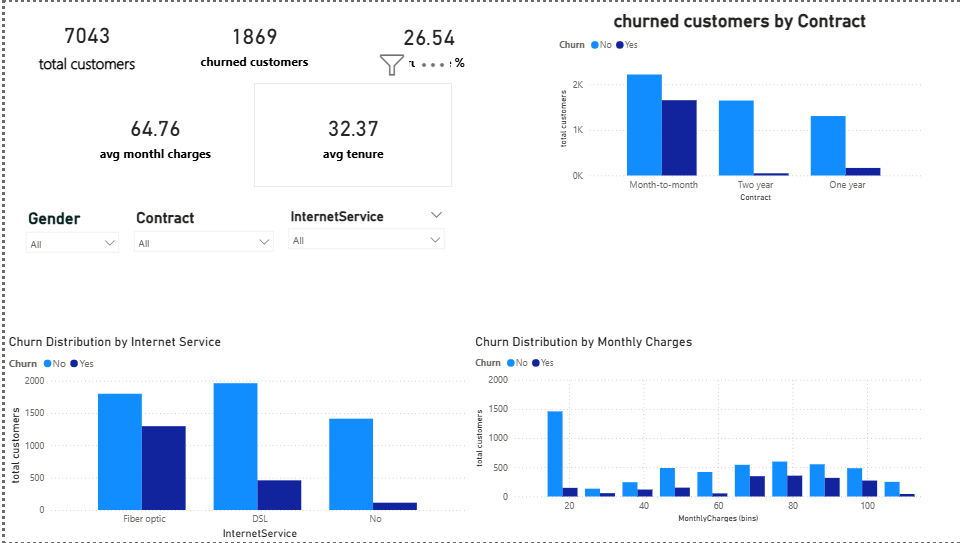

Layout of this report page (visuals, bound fields, positions):
{"tool":"powerbi","page":{"name":"Page 1","canvas":[1280,720],"ordinal":0},"visuals":[{"type":"card","fields":{"Values":["WA_Fn-UseC_-Telco-Customer-Chur.total customers"]},"box":[0,0,218,110],"z":0},{"type":"card","fields":{"Values":["WA_Fn-UseC_-Telco-Customer-Chur.churned customers"]},"box":[200,0,264,108],"z":1000},{"type":"card","fields":{"Values":["WA_Fn-UseC_-Telco-Customer-Chur.chrun rate %"]},"box":[436,0,258,110],"z":2000},{"type":"card","fields":{"Values":["WA_Fn-UseC_-Telco-Customer-Chur.avg monthl charges"]},"box":[68,110,264,134],"z":3000},{"type":"card","fields":{"Values":["WA_Fn-UseC_-Telco-Customer-Chur.avg tenure"]},"box":[332,108,264,138],"z":4000},{"type":"clusteredColumnChart","title":"churned customers by Contract ","fields":{"Series":["WA_Fn-UseC_-Telco-Customer-Chur.Churn"],"Category":["WA_Fn-UseC_-Telco-Customer-Chur.Contract"],"Y":["WA_Fn-UseC_-Telco-Customer-Chur.total customers"]},"box":[734,10,492,260],"z":5000},{"type":"clusteredColumnChart","title":"Churn Distribution by Internet Service","fields":{"Category":["WA_Fn-UseC_-Telco-Customer-Chur.InternetService"],"Series":["WA_Fn-UseC_-Telco-Customer-Chur.Churn"],"Y":["WA_Fn-UseC_-Telco-Customer-Chur.total customers"]},"box":[0,442,622,278],"z":6000},{"type":"clusteredColumnChart","title":"Churn Distribution by Monthly Charges","fields":{"Series":["WA_Fn-UseC_-Telco-Customer-Chur.Churn"],"Y":["WA_Fn-UseC_-Telco-Customer-Chur.total customers"],"Category":["WA_Fn-UseC_-Telco-Customer-Chur.MonthlyCharges (bins)"]},"box":[622,442,604,256],"z":7000},{"type":"slicer","fields":{"Values":["WA_Fn-UseC_-Telco-Customer-Chur.gender"]},"box":[18,270,144,114],"z":8000},{"type":"slicer","fields":{"Values":["WA_Fn-UseC_-Telco-Customer-Chur.Contract"]},"box":[162,270,206,128],"z":9000},{"type":"slicer","fields":{"Values":["WA_Fn-UseC_-Telco-Customer-Chur.InternetService"]},"box":[368,270,228,128],"z":10000}]}

Visuals, with their boxes in screenshot pixels (x1, y1, x2, y2), scaled from the page's 1280x720 canvas onto the 964x543 screenshot:
card - WA_Fn-UseC_-Telco-Customer-Chur.total customers: l=0, t=0, r=164, b=83
card - WA_Fn-UseC_-Telco-Customer-Chur.churned customers: l=151, t=0, r=349, b=81
card - WA_Fn-UseC_-Telco-Customer-Chur.chrun rate %: l=328, t=0, r=523, b=83
card - WA_Fn-UseC_-Telco-Customer-Chur.avg monthl charges: l=51, t=83, r=250, b=184
card - WA_Fn-UseC_-Telco-Customer-Chur.avg tenure: l=250, t=81, r=449, b=186
"churned customers by Contract " clusteredColumnChart: l=553, t=8, r=923, b=204
"Churn Distribution by Internet Service" clusteredColumnChart: l=0, t=333, r=468, b=542
"Churn Distribution by Monthly Charges" clusteredColumnChart: l=468, t=333, r=923, b=526
slicer - WA_Fn-UseC_-Telco-Customer-Chur.gender: l=14, t=204, r=122, b=290
slicer - WA_Fn-UseC_-Telco-Customer-Chur.Contract: l=122, t=204, r=277, b=300
slicer - WA_Fn-UseC_-Telco-Customer-Chur.InternetService: l=277, t=204, r=449, b=300
